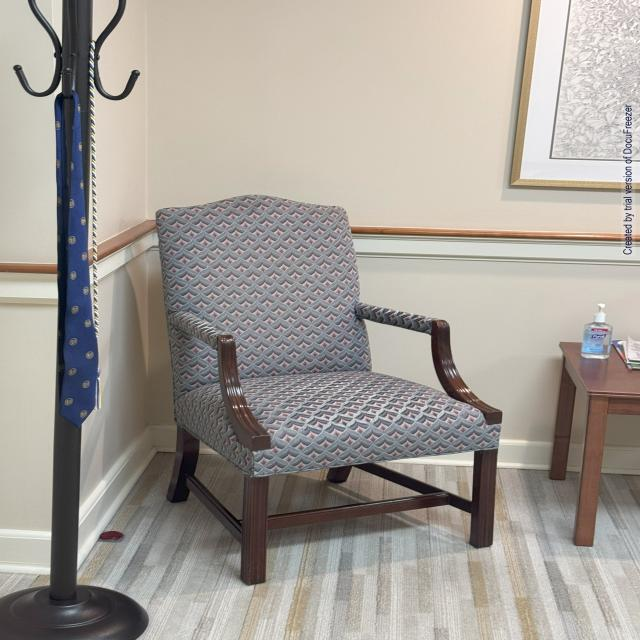chair: (140, 172, 528, 621)
